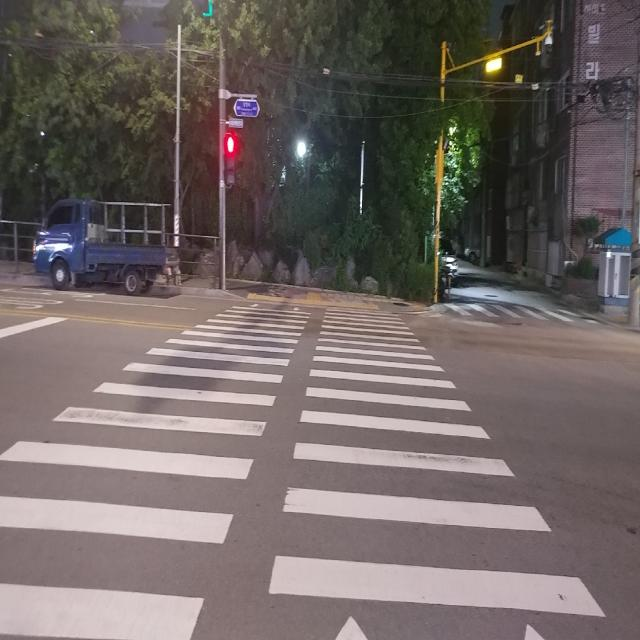빨간불: (225, 133, 236, 183)
횡단보도: (0, 303, 606, 640)
